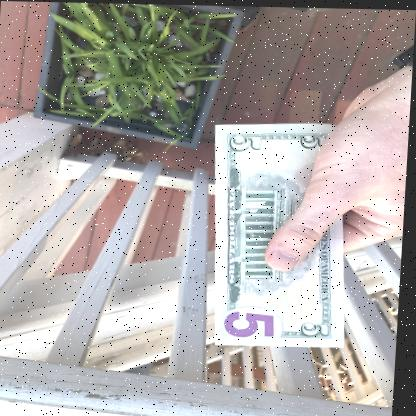five-back: (206, 119, 345, 349)
